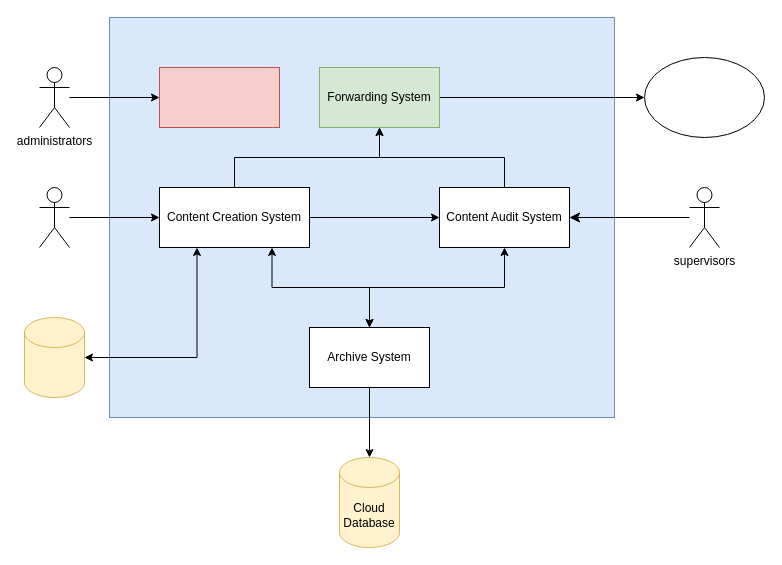
This 782x565 diagram has some shape labels left out. The shapes that lost their labels are listed below. From the top down, each one's box as (x1, y1, x2, y2) in pixels, then its label:
(158, 66, 280, 128): Administration System
(644, 56, 764, 138): Email/ WeChat
(38, 186, 70, 248): creators
(24, 316, 84, 398): LLM
